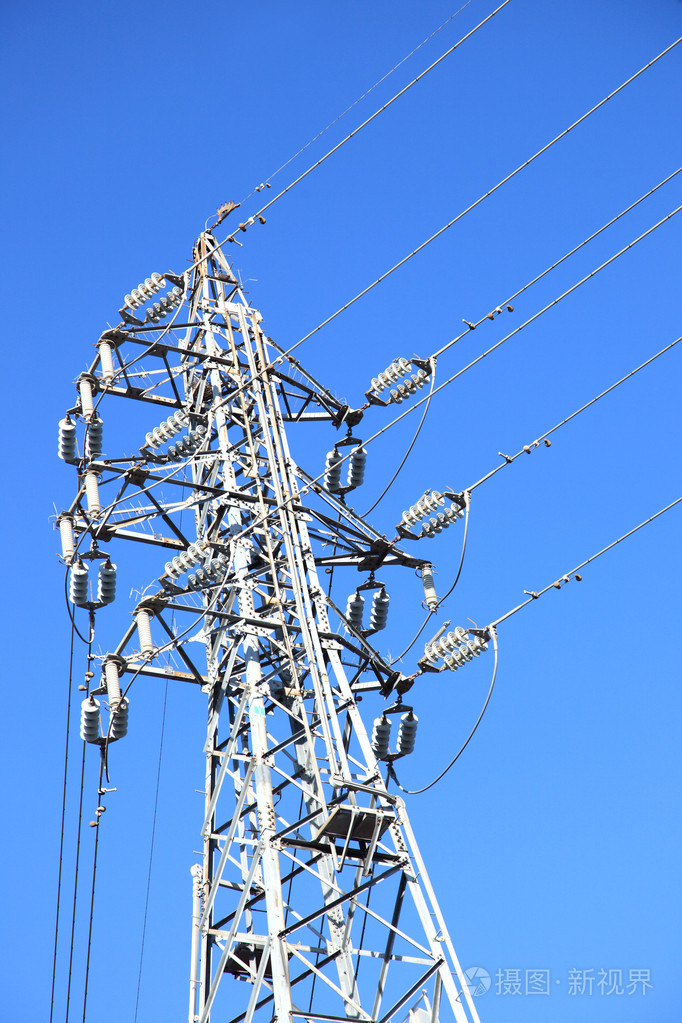insulator: (147, 282, 189, 325), (162, 539, 206, 580), (398, 491, 444, 527), (424, 628, 466, 667), (122, 268, 160, 311), (373, 351, 411, 393), (189, 555, 231, 591), (146, 408, 189, 443), (444, 637, 487, 671), (422, 505, 464, 538), (392, 370, 430, 405), (395, 714, 424, 756), (77, 695, 102, 743), (167, 430, 203, 463), (104, 699, 133, 738), (64, 564, 90, 605), (343, 593, 367, 634), (320, 452, 343, 492), (366, 592, 387, 635), (58, 416, 78, 461), (97, 561, 117, 605), (83, 414, 101, 460), (372, 717, 393, 755), (350, 444, 366, 488)
